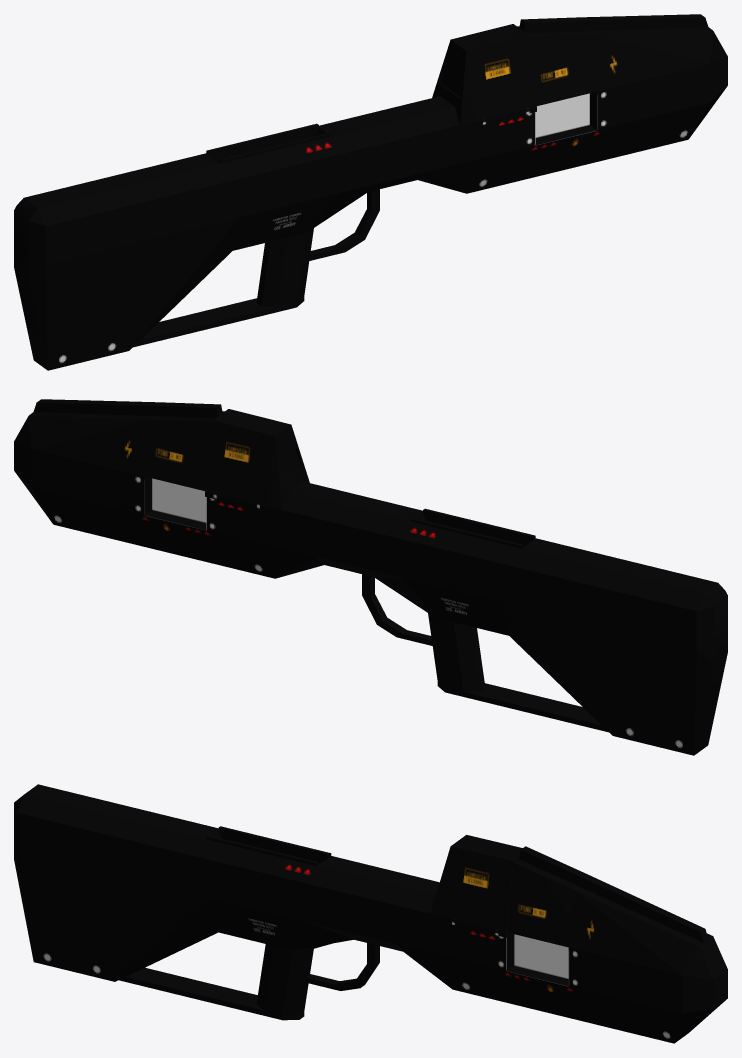
The model's file is Foundation-Standard-Marksman-Rifle.obj.
3 views of the same model, one above another, from view 1: azimuth 30°, elevation 25°; view 2: azimuth 150°, elevation 25°; view 3: azimuth 330°, elevation 25° (orthographic).
Visible parts, largest first — view 1: Foundation-Standard-Marksman-Rifle; view 2: Foundation-Standard-Marksman-Rifle; view 3: Foundation-Standard-Marksman-Rifle.
Part boxes in pixels (x1,y1,x2,y2): Foundation-Standard-Marksman-Rifle: [14, 14, 727, 370]; Foundation-Standard-Marksman-Rifle: [14, 399, 727, 755]; Foundation-Standard-Marksman-Rifle: [14, 784, 727, 1043].
Size of the model in its own units: 14.2 by 4.4 by 1.09.
